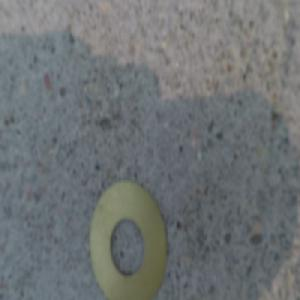Washer: (91, 173, 169, 298)
